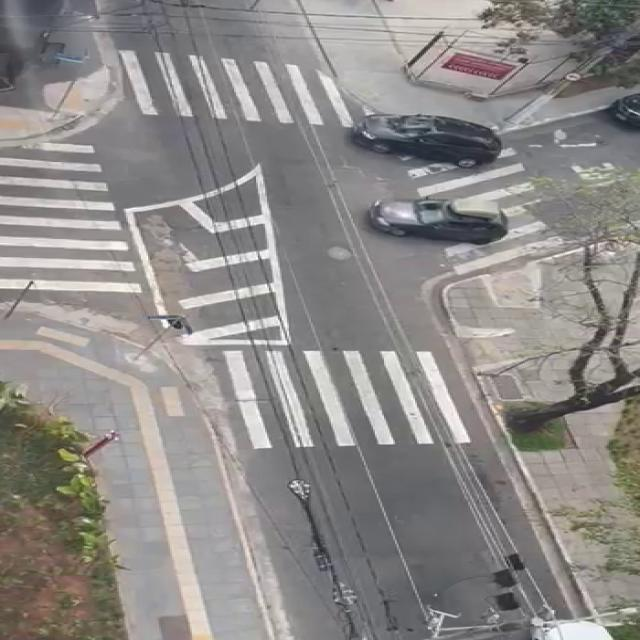car: (340, 111, 516, 164), (350, 193, 536, 235), (520, 611, 622, 640), (598, 93, 640, 133)
